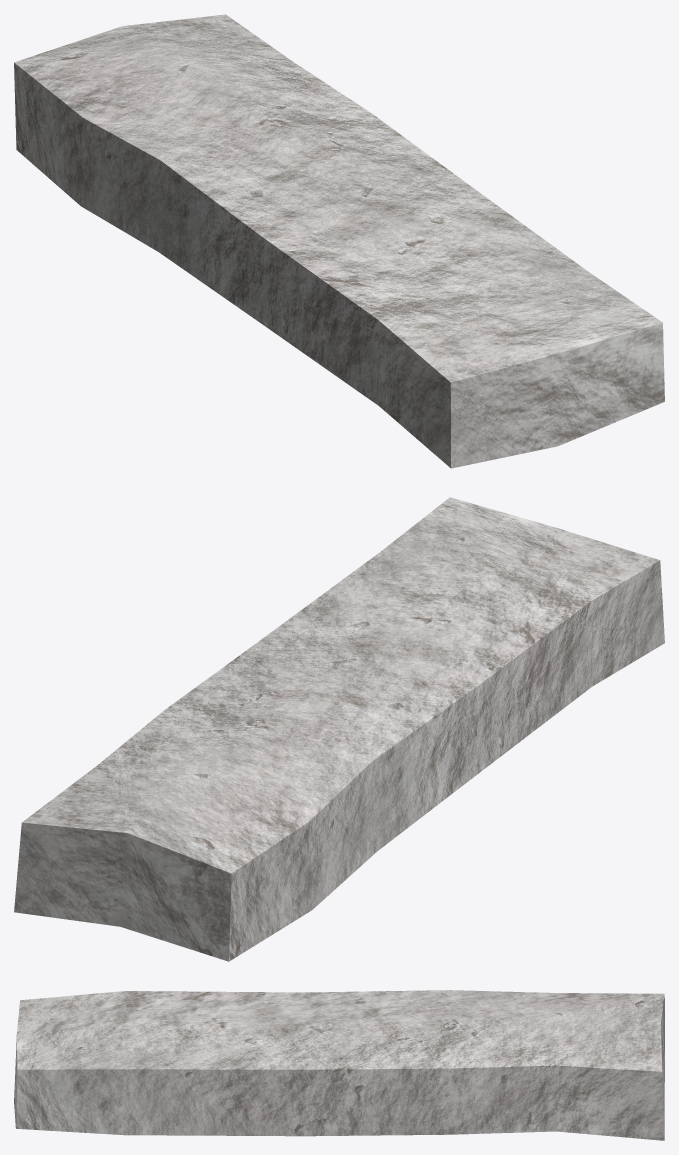
The model's file is step2_LOD1.FBX.
3 views of the same model, one above another, from view 1: azimuth 30°, elevation 25°; view 2: azimuth 150°, elevation 25°; view 3: azimuth 270°, elevation 25° (orthographic). The views are drawn at different scales.
Visible parts, largest first — view 1: step2_LOD1; view 2: step2_LOD1; view 3: step2_LOD1.
Part boxes in pixels (bbox=[...]): step2_LOD1: bbox=[14, 14, 664, 468]; step2_LOD1: bbox=[14, 497, 664, 961]; step2_LOD1: bbox=[14, 990, 664, 1140].
Size of the model in its own units: 51.51 by 25.03 by 172.
